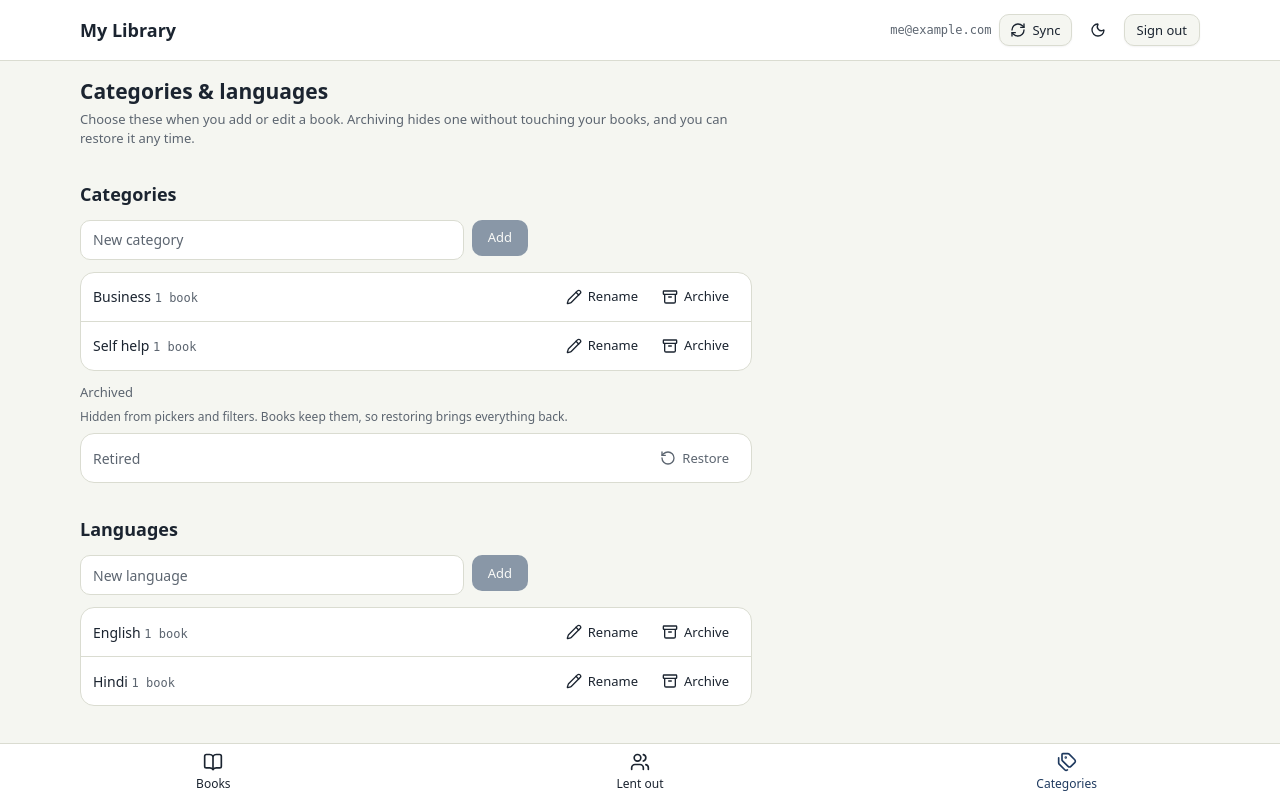
Test: Categories & languages page › adds a category to the Sheet and the screen; a duplicate is refused with a message and nothing is written
Type "Psychology" into the field labelled "New category" at (272, 240), box [80,220,464,260]
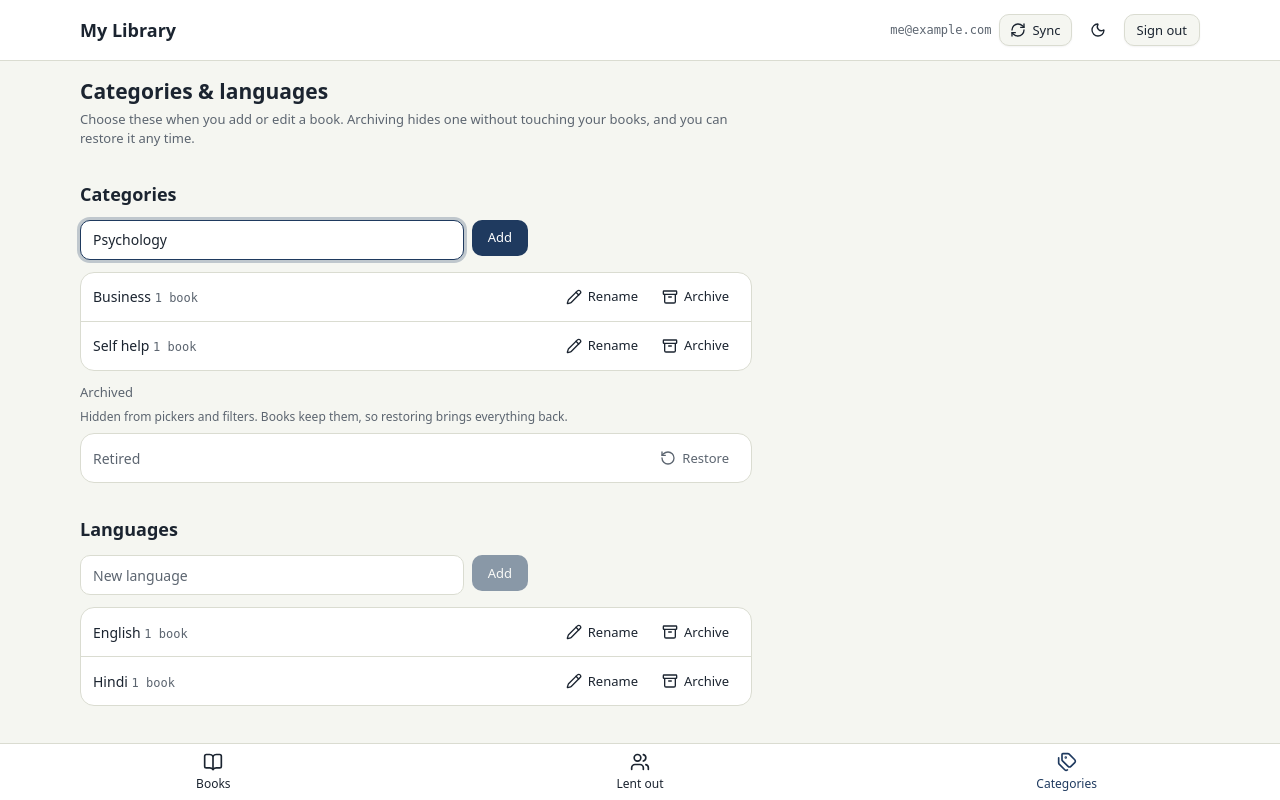
Click the 1st button "Add" at (500, 238), box [472,220,528,256]
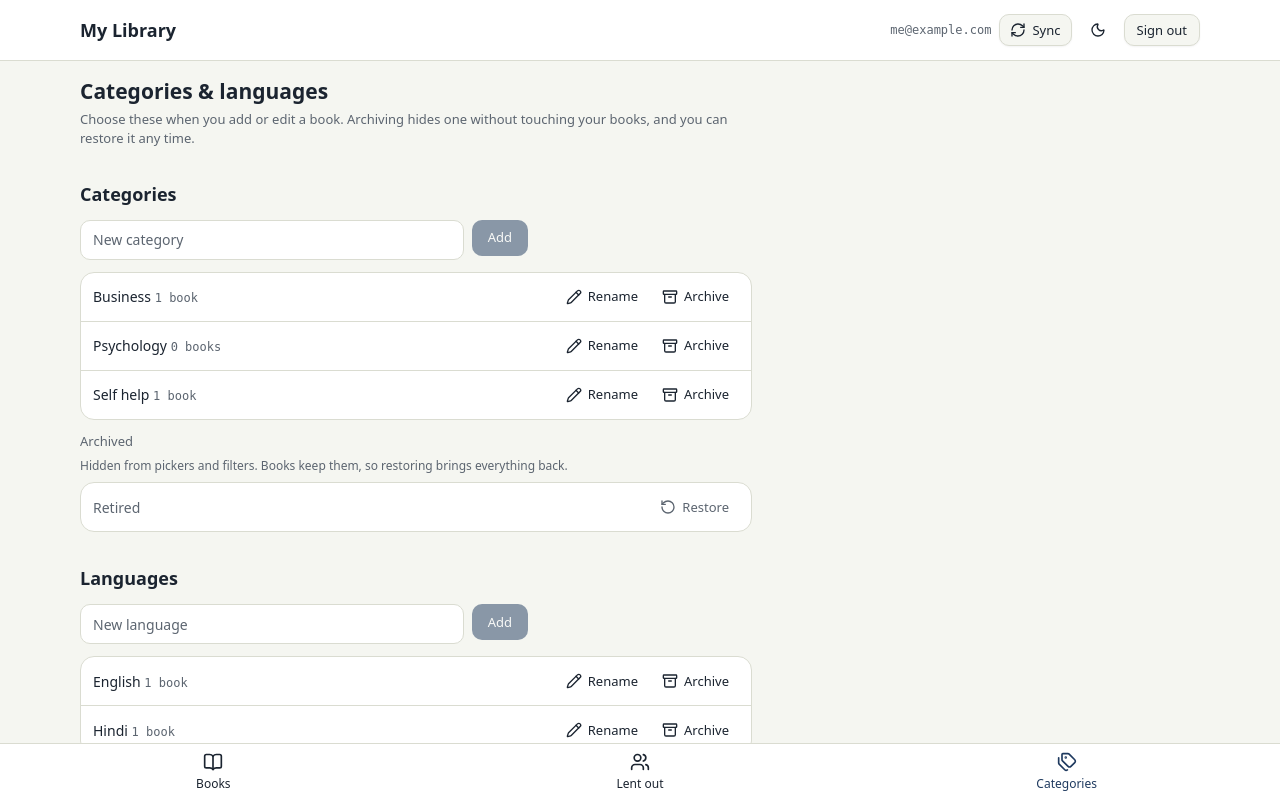
Expected: the text "Psychology" is shown, [93,336,167,355]
Expected: the field labelled "New category" is empty
Type "business" into the field labelled "New category" at (272, 240), box [80,220,464,260]
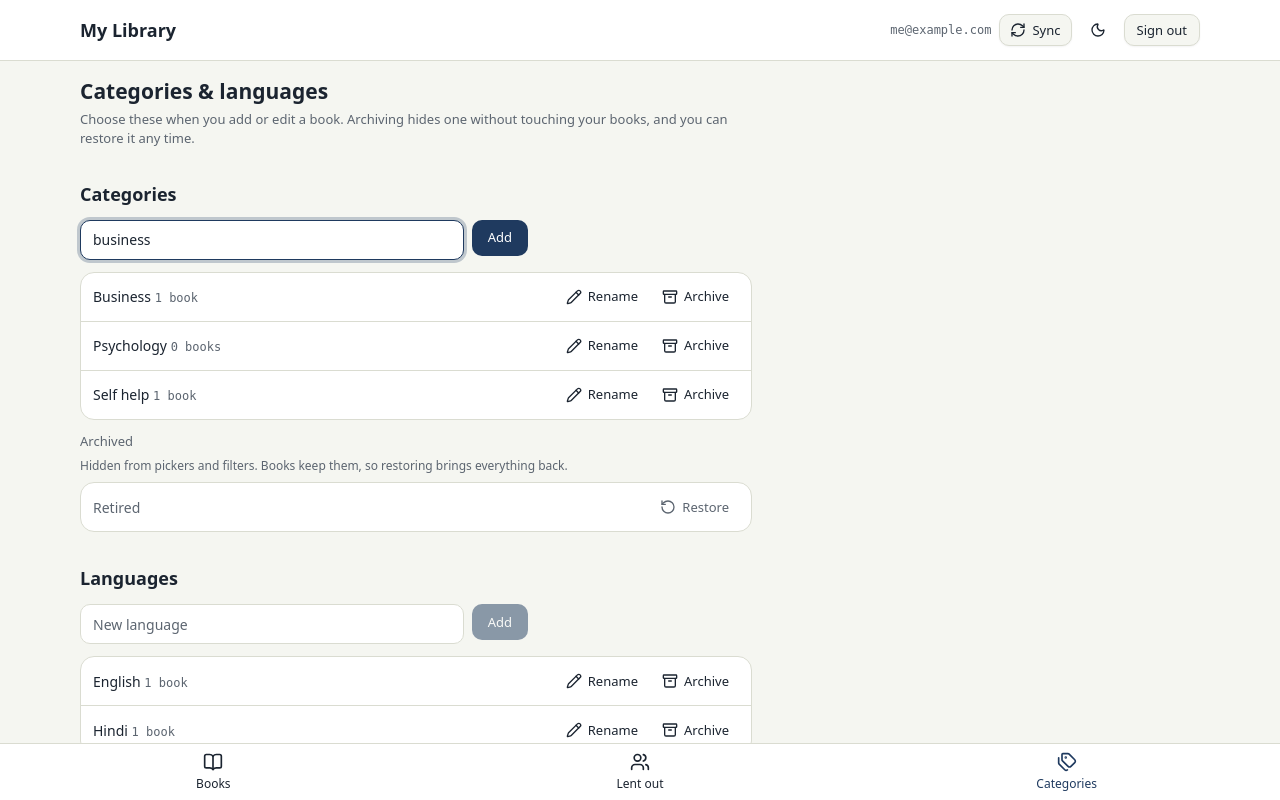
Click the 1st button "Add" at (500, 238), box [472,220,528,256]
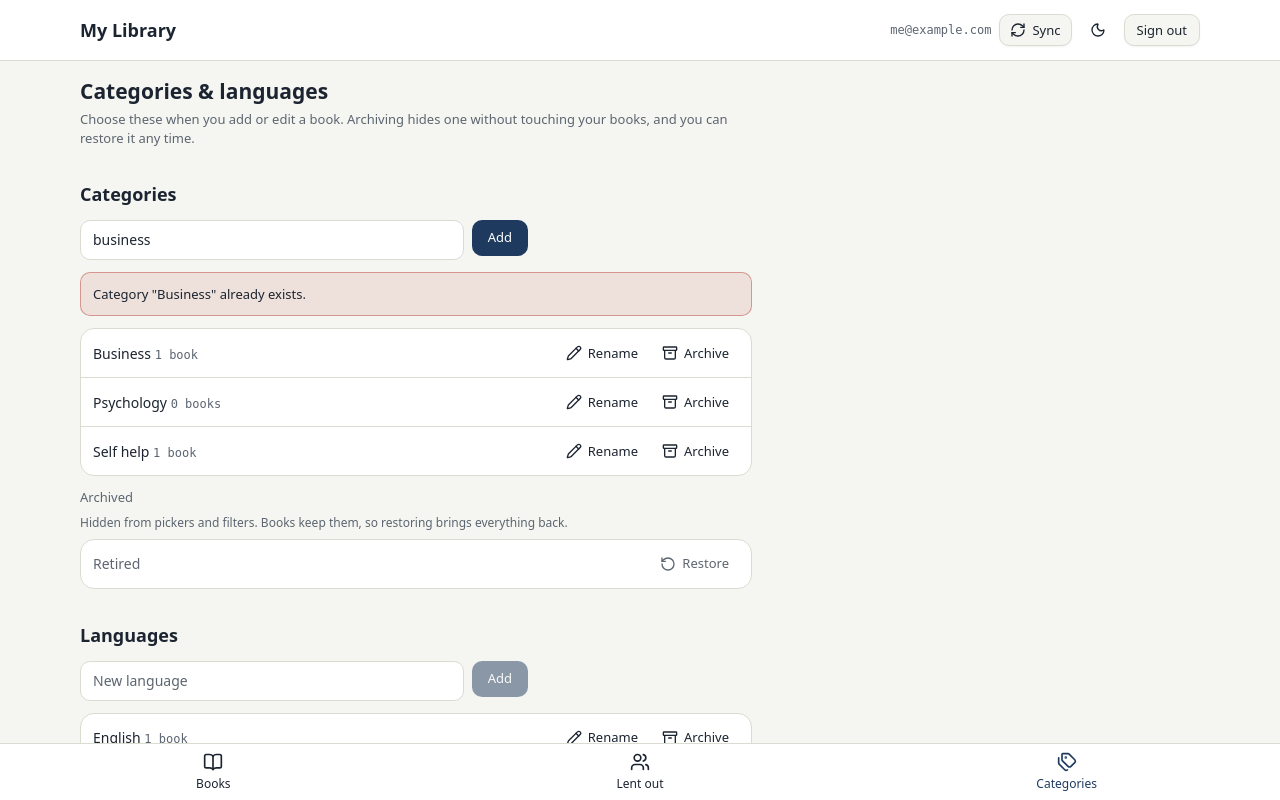
Expected: the message reads "Category \"Business\" already exists.", [93,284,306,302]
